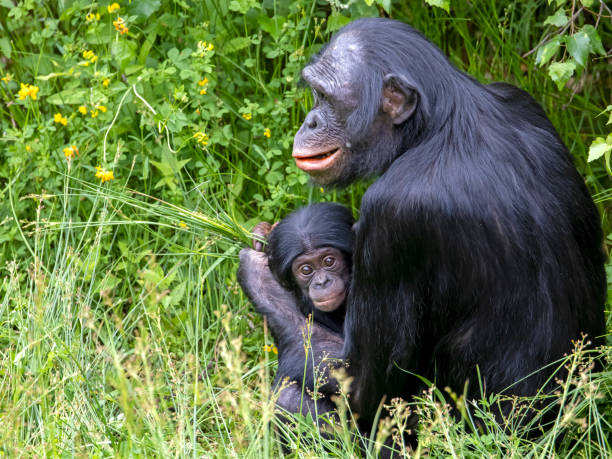chimpanzee: (269, 9, 517, 200), (215, 190, 373, 346)
